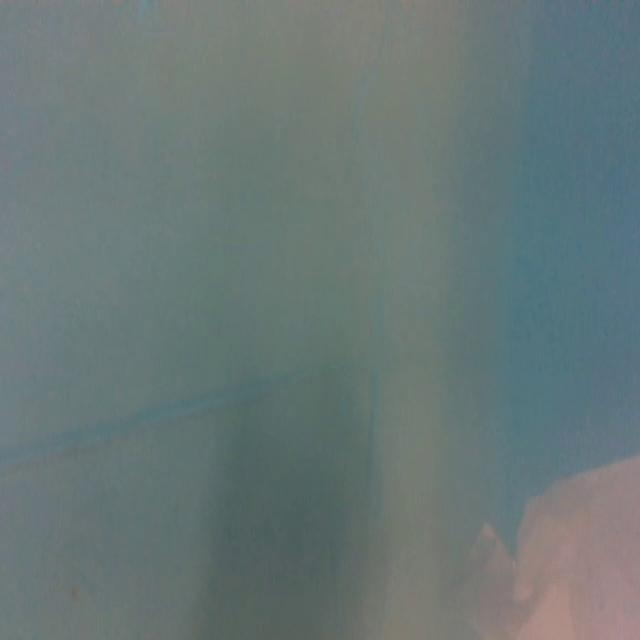plastic bags: (454, 453, 640, 639)
